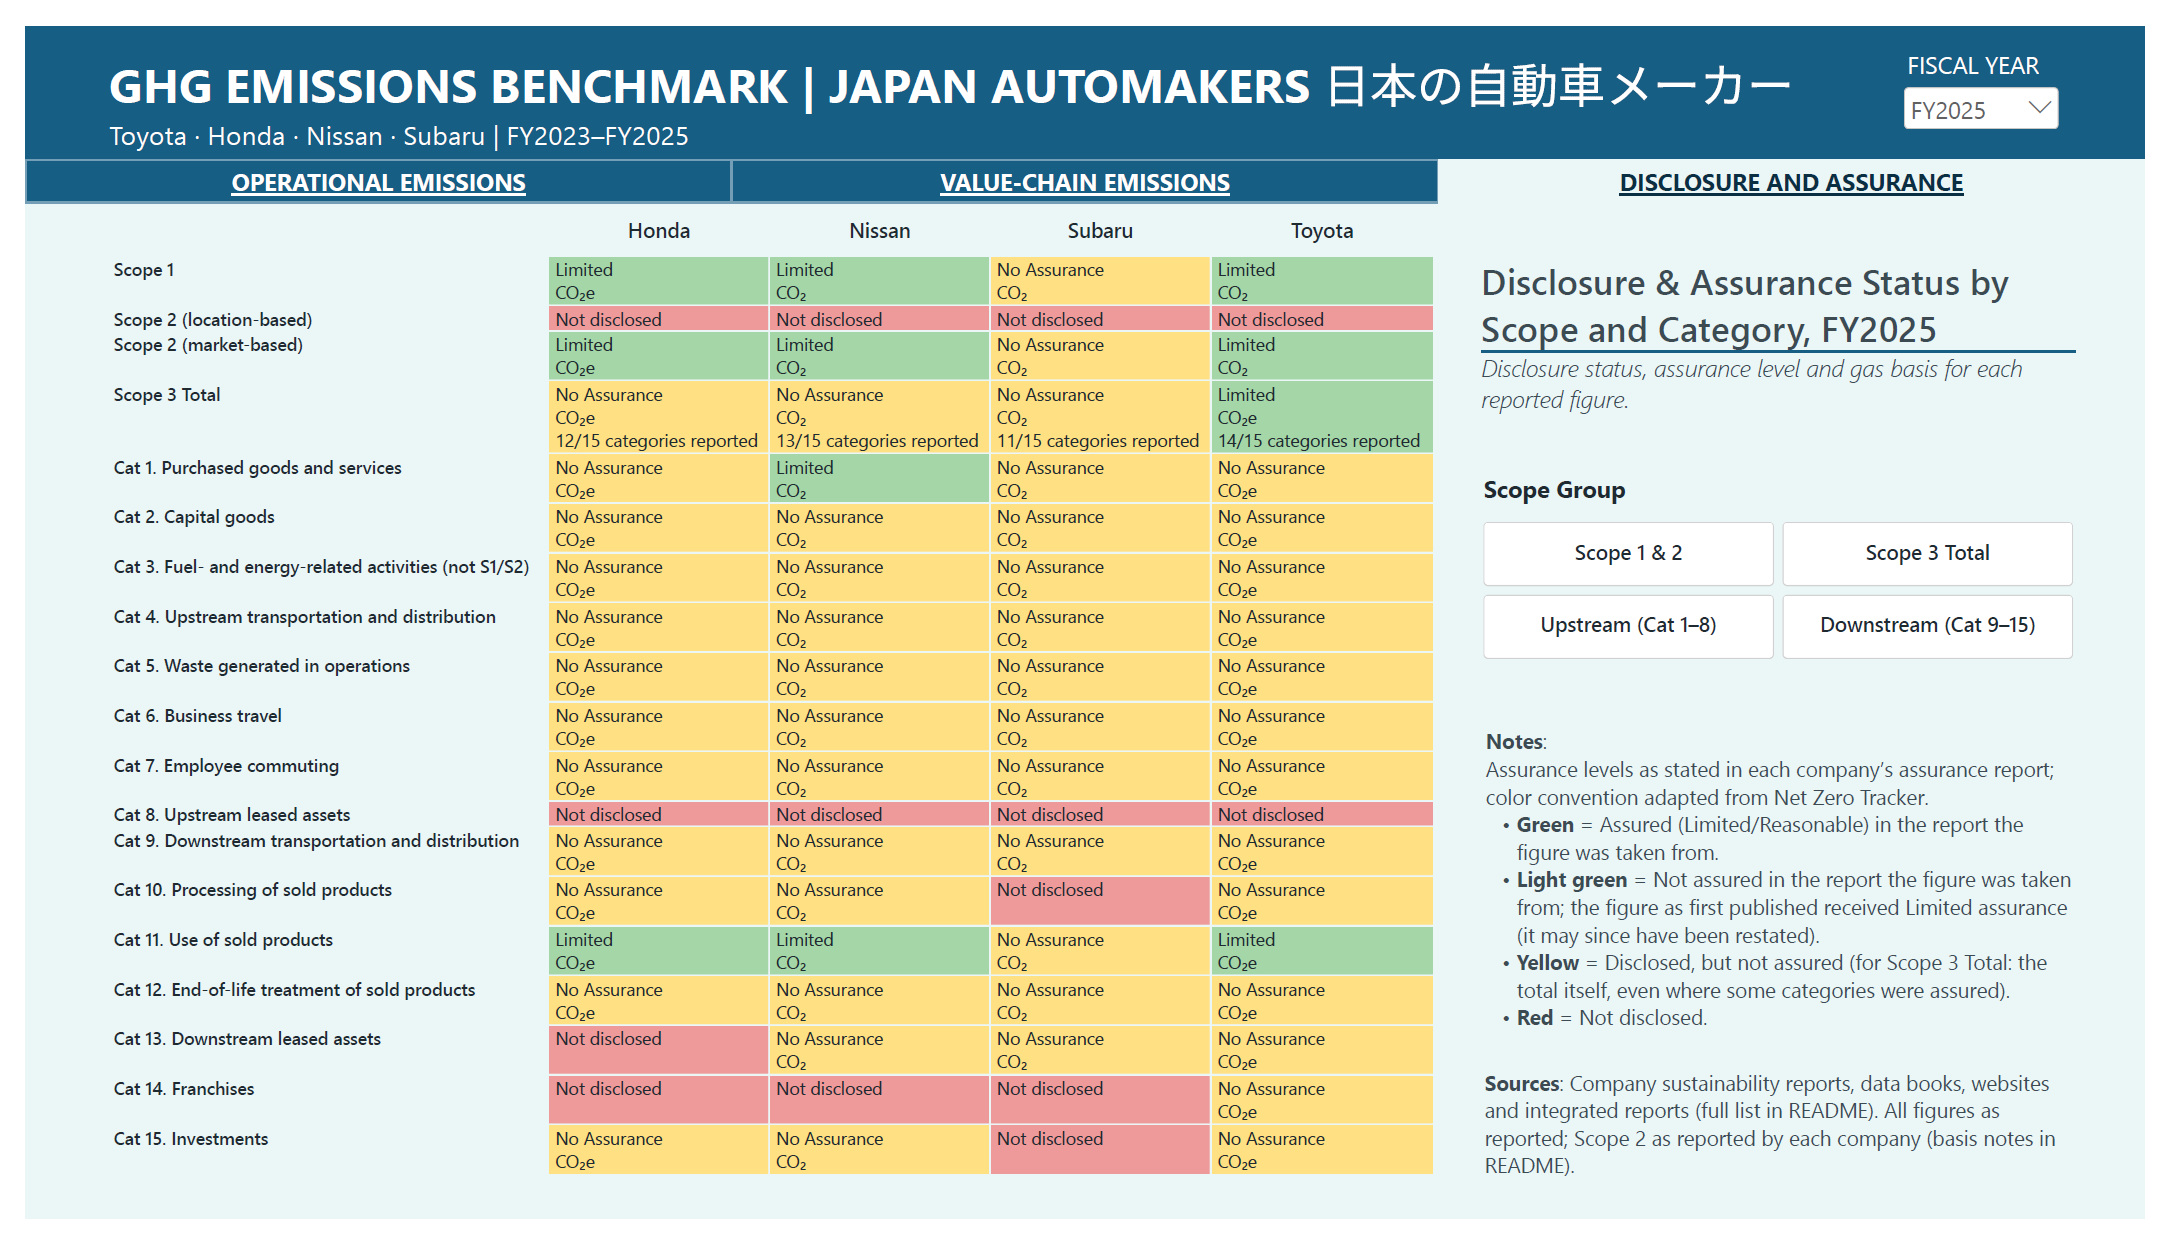

This screenshot's page, from the dashboard's own definition file:
{"tool":"powerbi","page":{"name":"DISCLOSURE AND ASSURANCE","canvas":[1920,1080],"ordinal":2},"visuals":[{"type":"textbox","title":"Footnote","box":[1321.9,943.8,533.7,104.7],"z":0},{"type":"pivotTable","title":"Disclosure And Assurance Matrix","fields":{"Columns":["fundamentals.company_name"],"Rows":["disclosure.row_label"],"Values":["disclosure.Disclosure Cell"]},"box":[59.6,171.6,1222.4,898.7],"z":2000,"group":"g1"},{"type":"group","id":"g1","title":"Disclosure And Assurance","box":[59.6,171.6,1797.4,898.7],"z":2000},{"type":"textbox","title":"Notes","box":[1322.4,634.6,534.3,346.7],"z":2500,"group":"g1"},{"type":"group","id":"g2","title":"Title Bar","box":[0,0,1920,160],"z":3000},{"type":"advancedSlicerVisual","title":"Scope Group","fields":{"Values":["disclosure.scope_group"]},"box":[1320.4,403.4,535.3,169.7],"z":3250,"group":"g1"},{"type":"textbox","title":"Disclosure And Assurance Title","box":[1318.5,207.9,538.5,169.5],"z":4000,"group":"g1"},{"type":"pageNavigator","title":"Page Navigator","box":[0,120,1920,40],"z":16250,"group":"g2"},{"type":"shape","title":"Top Panel","box":[0,0,1920,120],"z":16312,"group":"g2"},{"type":"slicer","title":"FY Dropdown","fields":{"Values":["fiscal_year.fiscal_year"]},"box":[1696.7,20,150,100],"z":16375,"group":"g2"},{"type":"textbox","title":"Project Title","box":[75.6,20.4,1531.3,109.1],"z":16500,"group":"g2"}]}

Visuals, with their boxes in screenshot pixels (x1, y1, x2, y2), scaled from the page's 1920x1080 canvas onto the 2170x1245 screenshot:
"Footnote" textbox: Rect(1494, 1088, 2097, 1209)
"Disclosure And Assurance Matrix" pivotTable: Rect(67, 198, 1449, 1234)
"Disclosure And Assurance" group: Rect(67, 198, 2099, 1234)
"Notes" textbox: Rect(1495, 732, 2098, 1131)
"Title Bar" group: Rect(0, 0, 2169, 184)
"Scope Group" advancedSlicerVisual: Rect(1492, 465, 2097, 661)
"Disclosure And Assurance Title" textbox: Rect(1490, 240, 2099, 435)
"Page Navigator" pageNavigator: Rect(0, 138, 2169, 184)
"Top Panel" shape: Rect(0, 0, 2169, 138)
"FY Dropdown" slicer: Rect(1918, 23, 2087, 138)
"Project Title" textbox: Rect(85, 24, 1816, 149)
